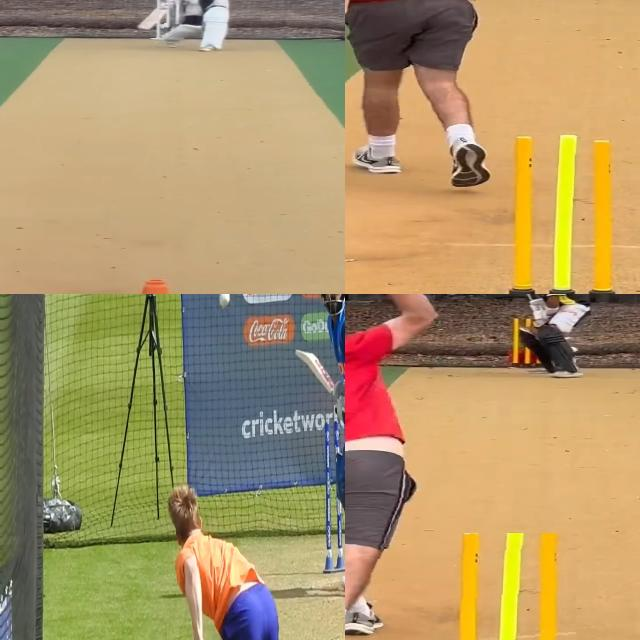Cricket ball: (217, 294, 231, 314), (158, 22, 173, 31)
Stumps: (491, 131, 626, 294), (441, 532, 578, 640)
